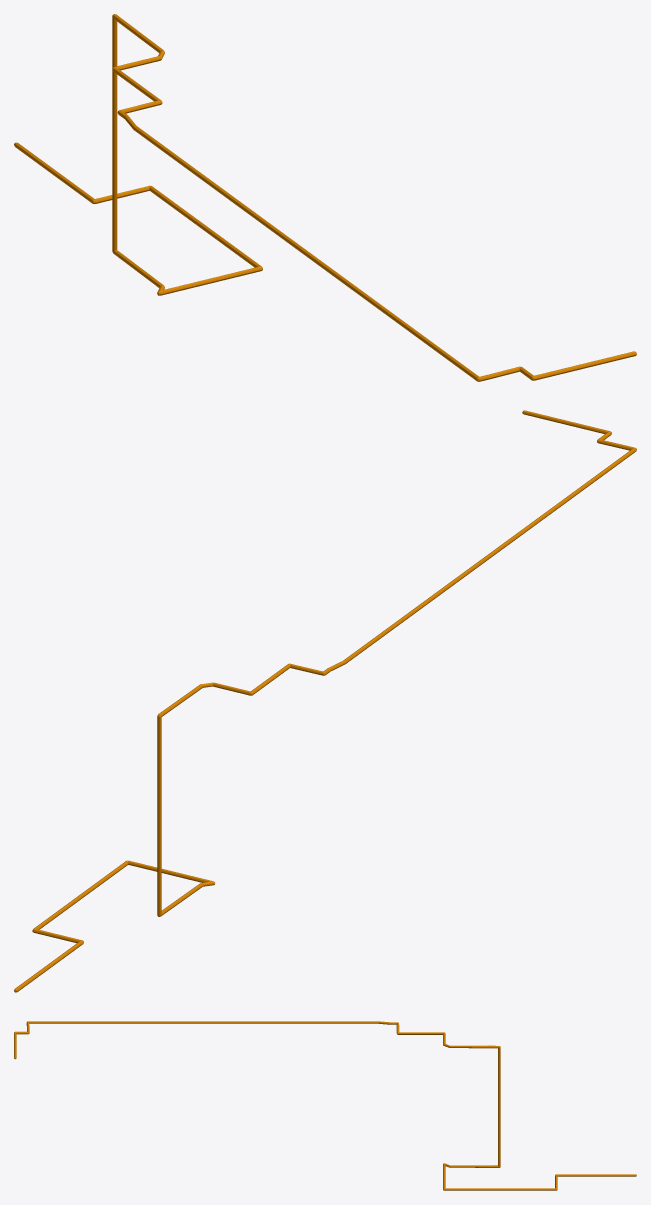
The picture shows the model from 3 angles, top to bottom: view 1: azimuth 30°, elevation 25°; view 2: azimuth 150°, elevation 25°; view 3: azimuth 270°, elevation 25°; orthographic projection. The views are drawn at different scales.
Bounding box in the file's own units: 869 × 1020 × 4720.
